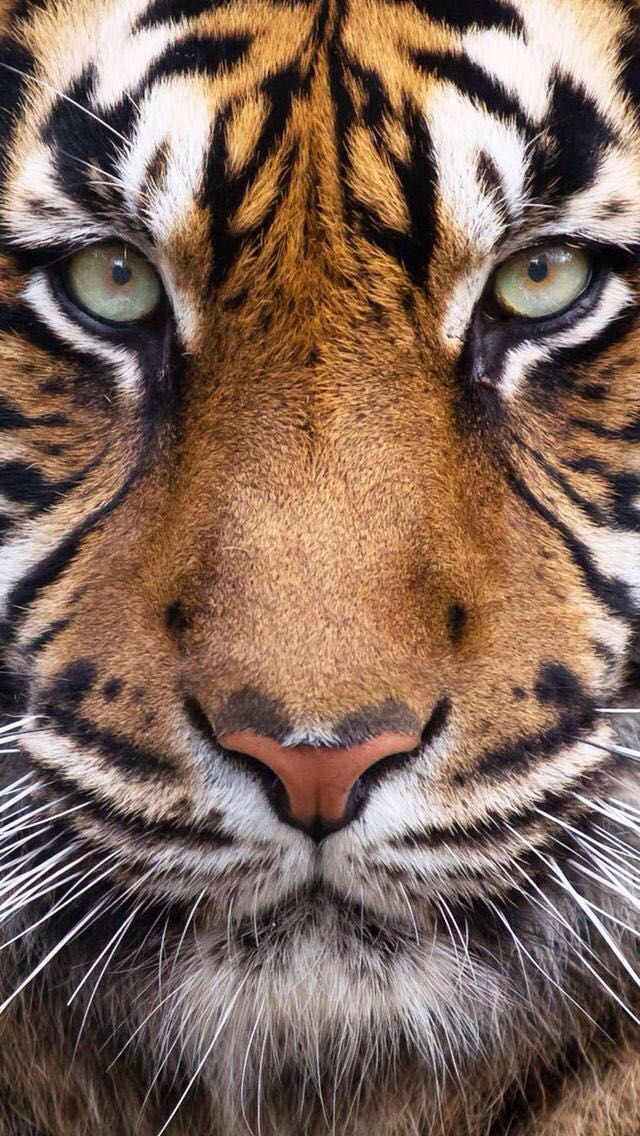Tigrew: (8, 18, 611, 1020)
